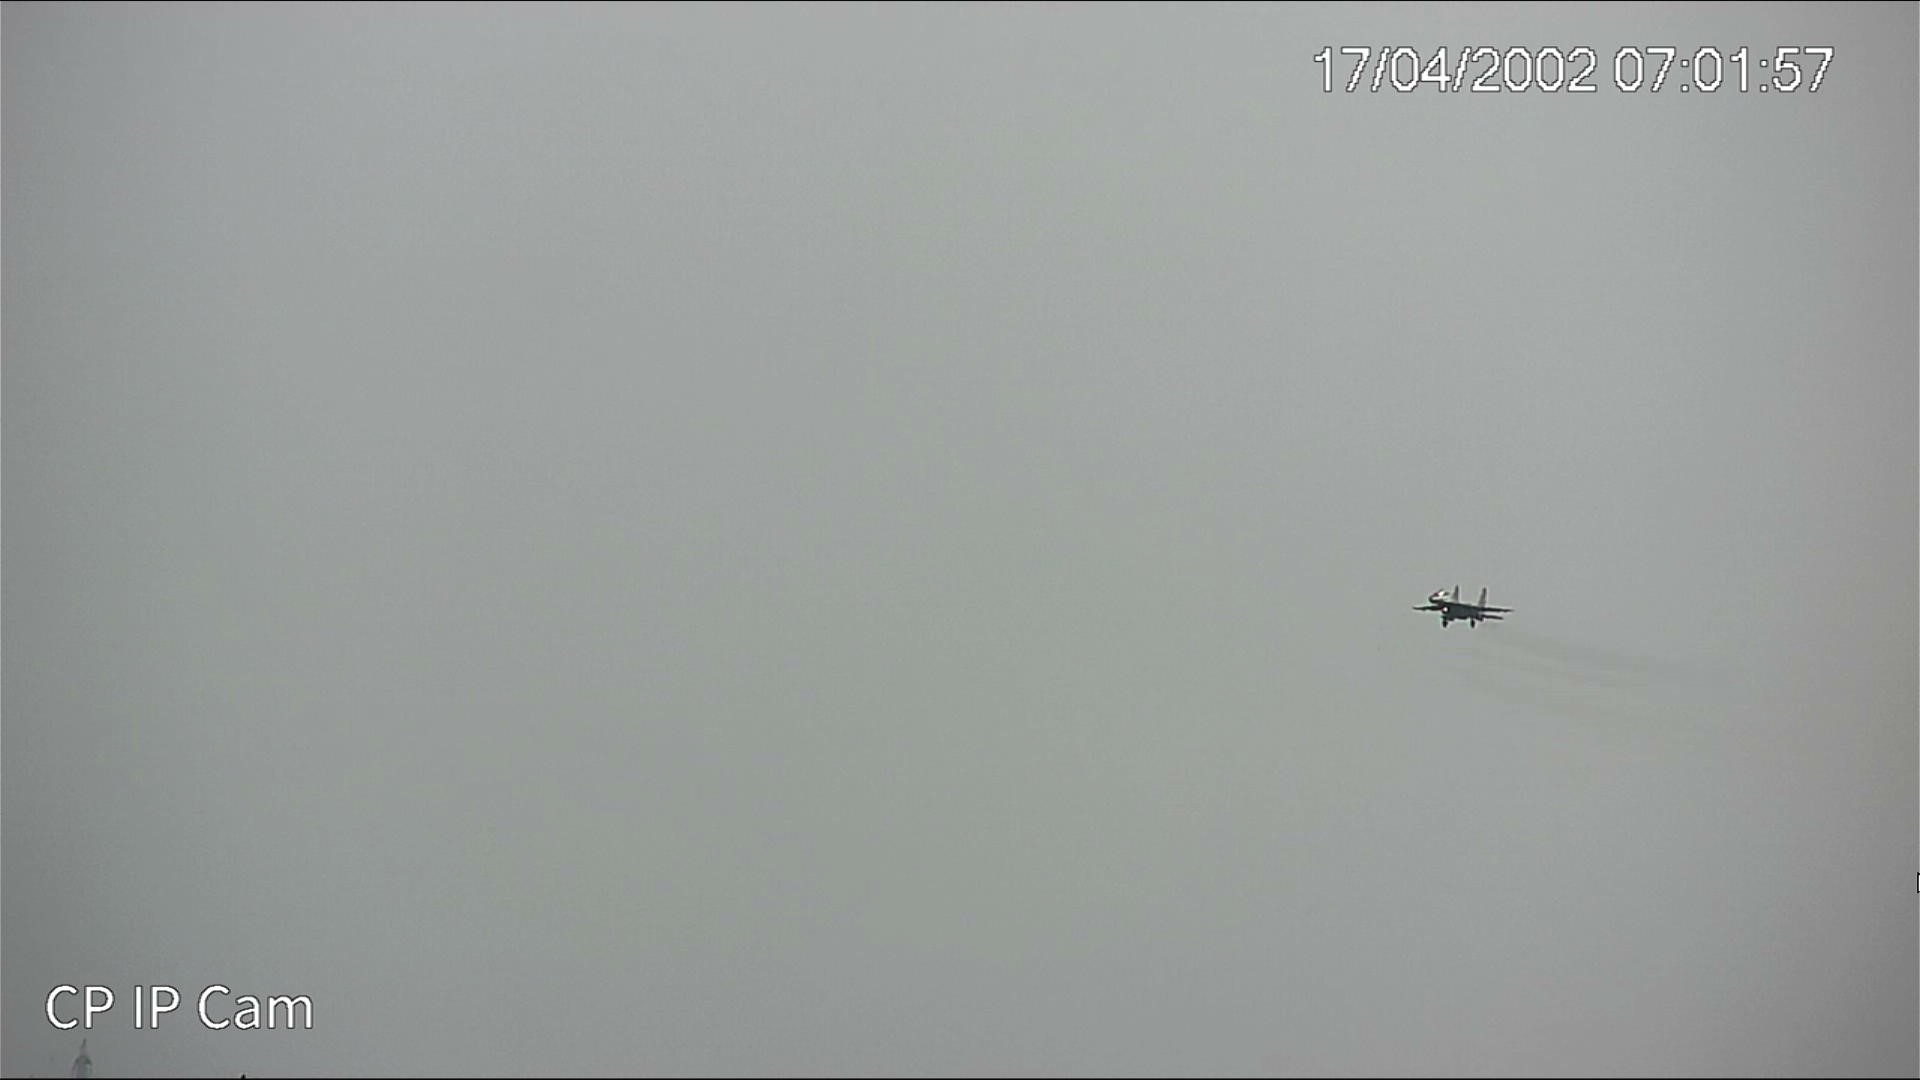SU_30: (1408, 585, 1513, 626)
